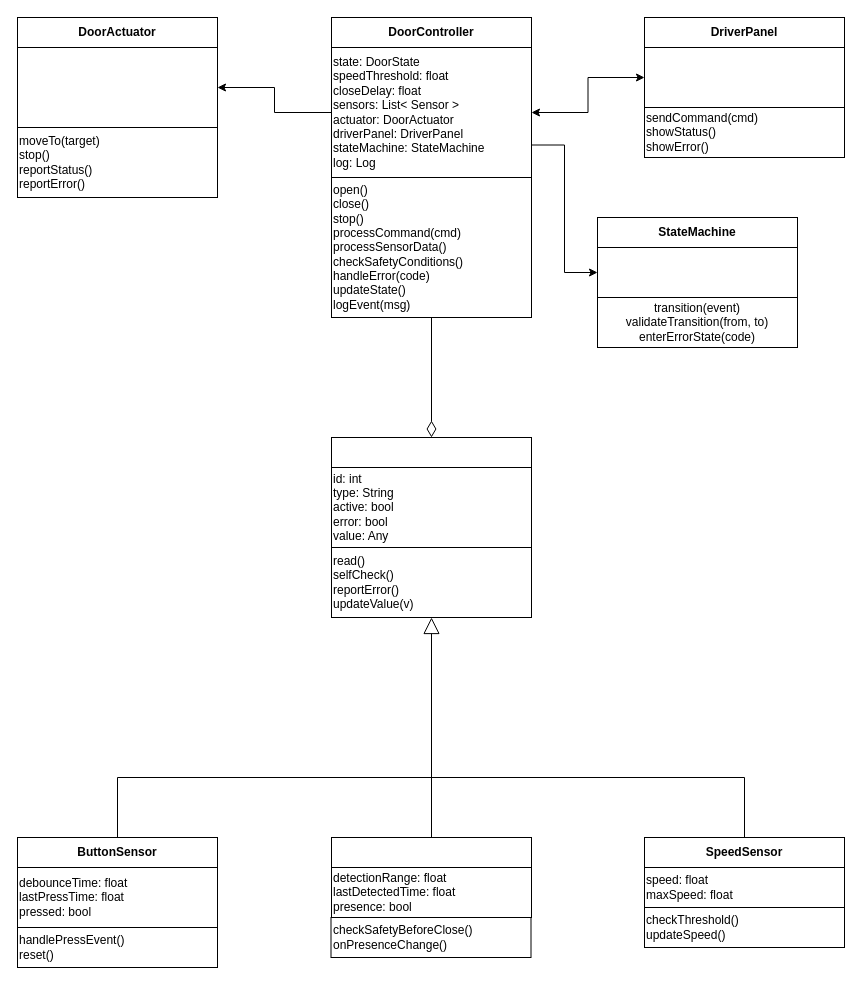
The diagram is 862 pixels wide and 985 high, and some of its shapes have lost their labels. The centre of each missing label's shape, as x and y in pixels:
currentState: DoorState transitionMap: Map lastChangeTime: float: the point at 697,272
openButton: bool closeButton: bool emergencyStopButton: bool statusLED: bool: the point at 744,77
position: float targetPosition: float speed: float moving: bool error: bool: the point at 117,87
PresenceSensor: the point at 431,852
Sensor: the point at 431,452
